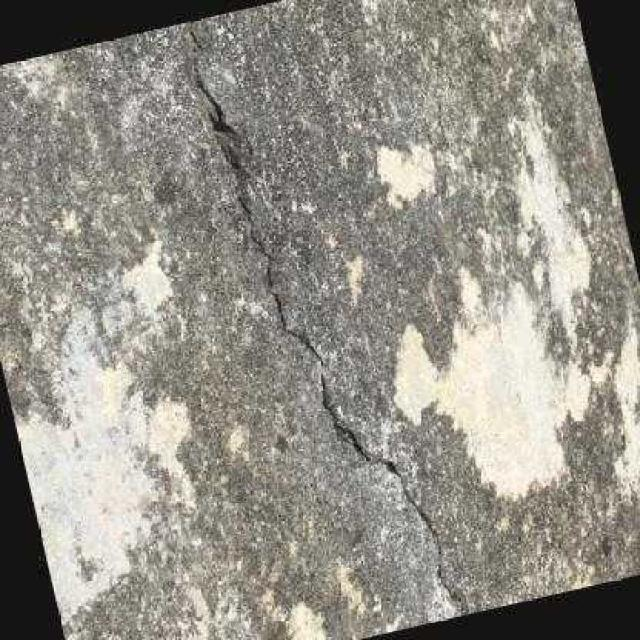D00: (188, 20, 464, 616)
